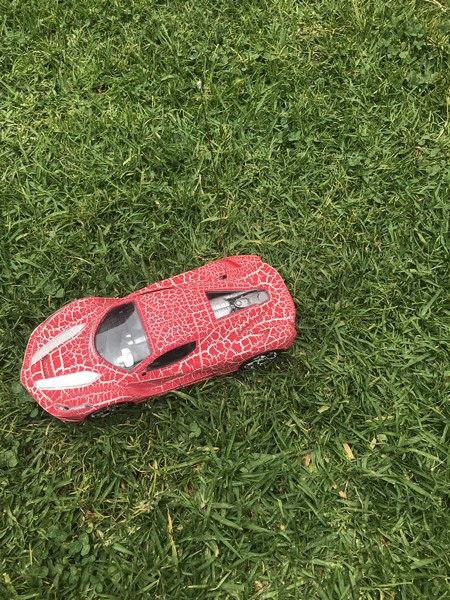RC: (19, 251, 298, 425)
